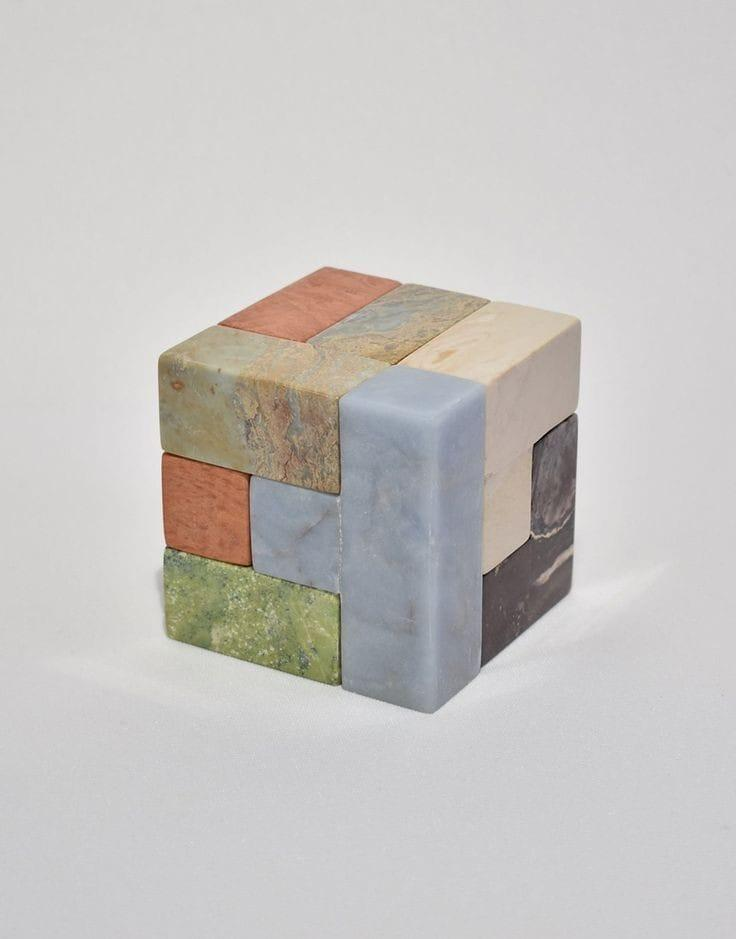cubos: (142, 245, 625, 735)
